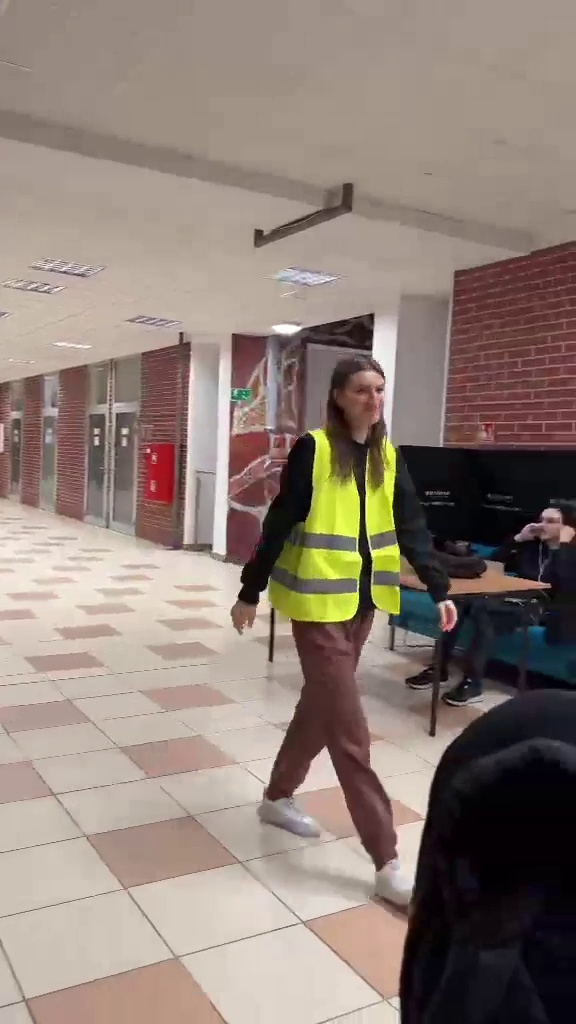no vest: (426, 493, 570, 707)
vest: (230, 347, 452, 910)
